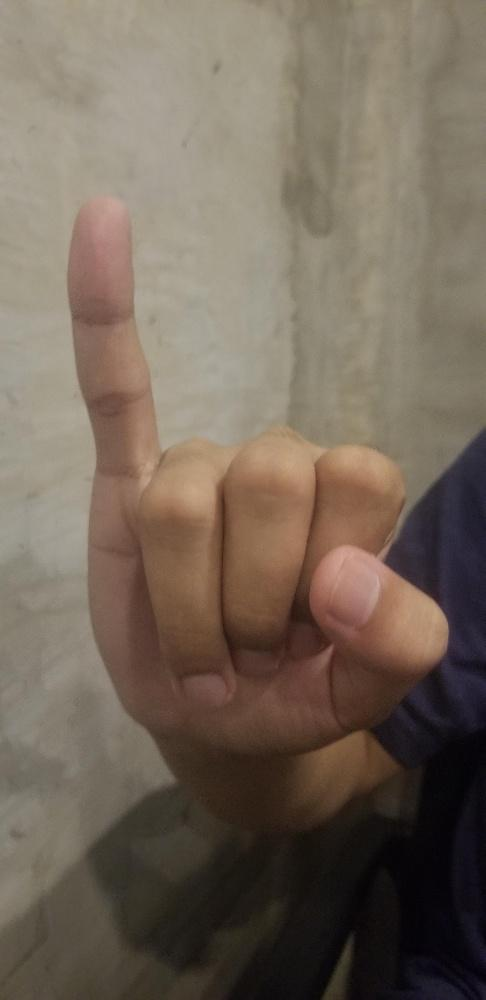i: (65, 192, 453, 759)
